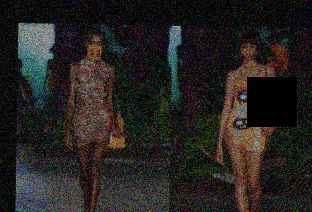with_mask: (85, 39, 104, 58)
without_mask: (239, 41, 257, 60)
